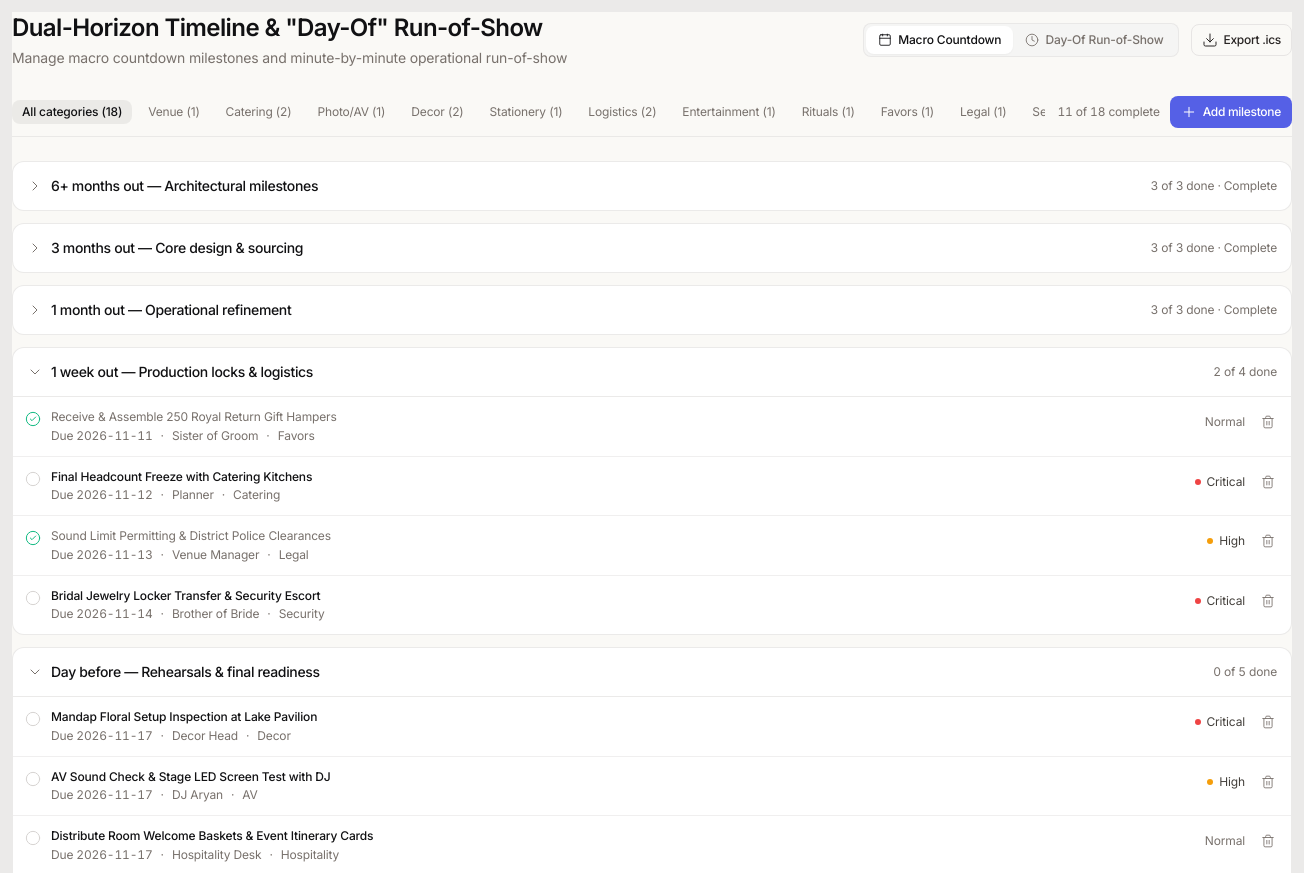
VendorsTab and TimelineTab Comprehensive Integration › TimelineTab Dual-Horizon & Run-of-Show › renders macro countdown and toggles to Day-Of Run-of-Show
Expected: the heading "Dual-Horizon Timeline & \"Day-Of\" Run-of-Show" is shown, x1=12 y1=12 x2=567 y2=44
Note: Switch to Day-Of Run-of-Show
Click the button "Day-Of Run-of-Show": (1094, 40) x1=1013 y1=26 x2=1176 y2=54
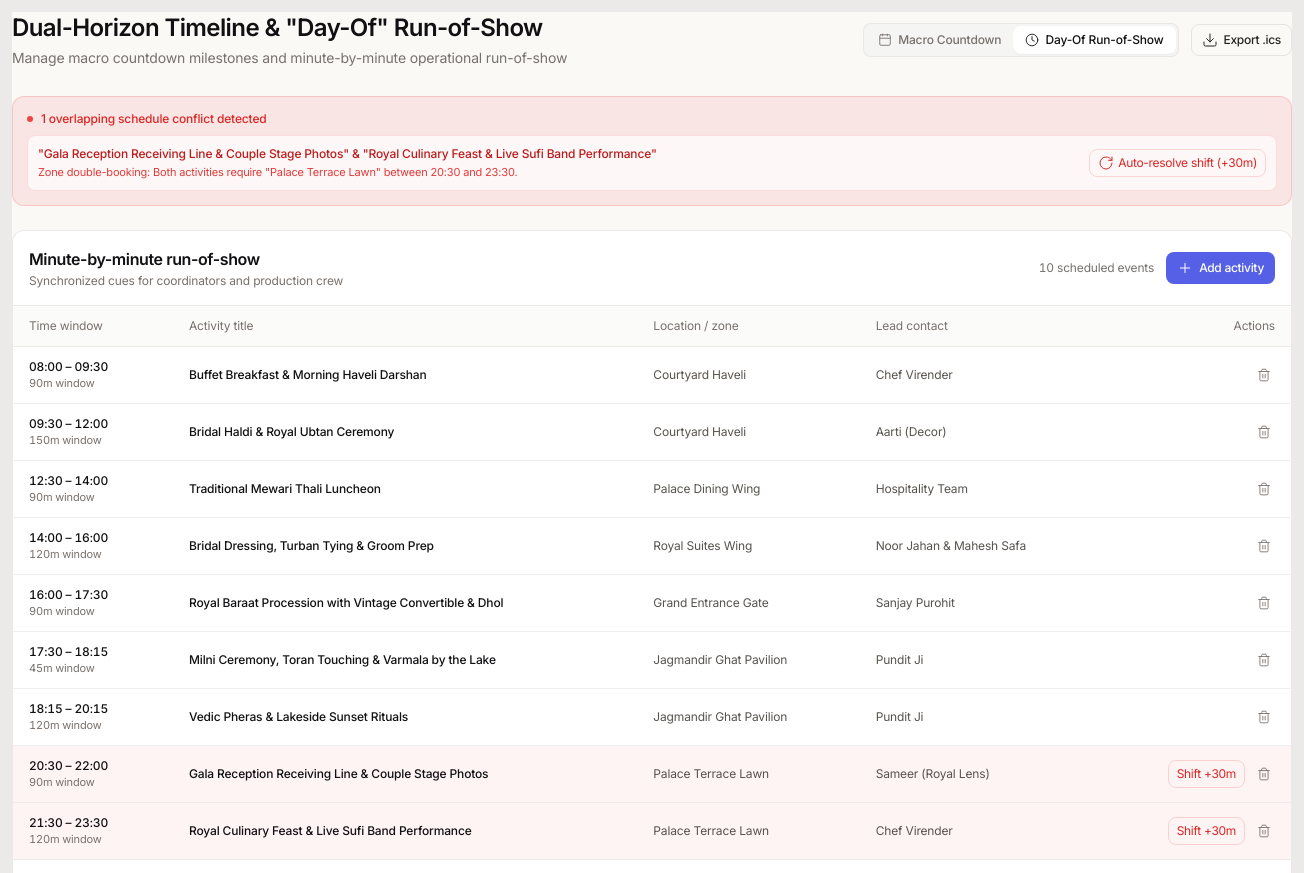
Expected: the heading "Minute-by-minute run-of-show" is shown, x1=29 y1=249 x2=260 y2=269
Expected: the text "Synchronized cues for coordinators and production crew" is shown, x1=29 y1=273 x2=343 y2=289
